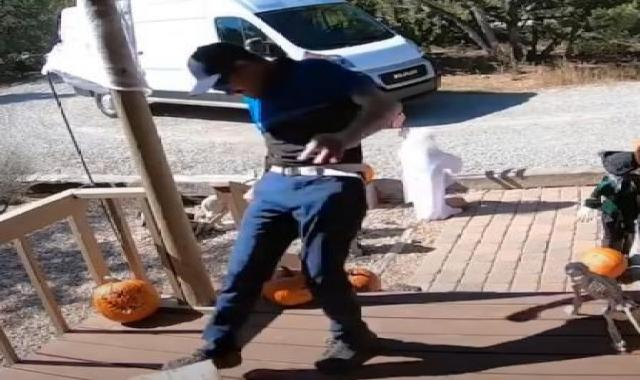no_hairnet: (179, 37, 268, 95)
